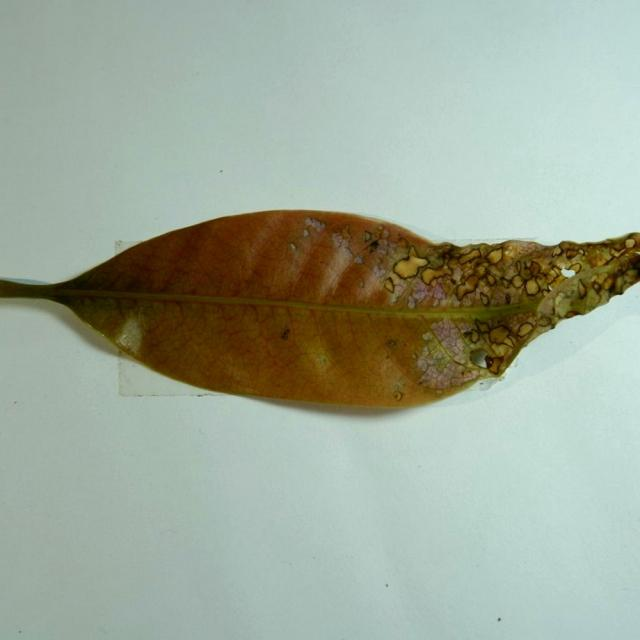Anthracnose: (468, 317, 526, 358), (392, 253, 435, 282), (392, 251, 427, 279), (420, 265, 452, 286), (455, 277, 478, 300), (454, 248, 482, 264), (488, 325, 511, 344), (486, 355, 505, 375), (485, 248, 503, 264), (525, 278, 540, 295), (517, 322, 535, 336), (339, 225, 352, 239), (408, 245, 421, 259), (383, 278, 394, 292), (564, 266, 579, 276), (394, 390, 404, 401), (289, 242, 298, 251), (358, 278, 365, 289)
Mango: (0, 211, 639, 418)
